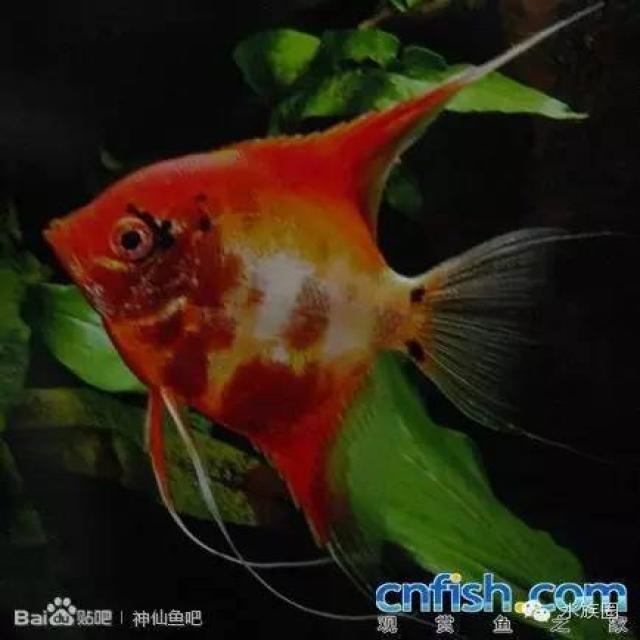AngelFish: (43, 10, 552, 544)
